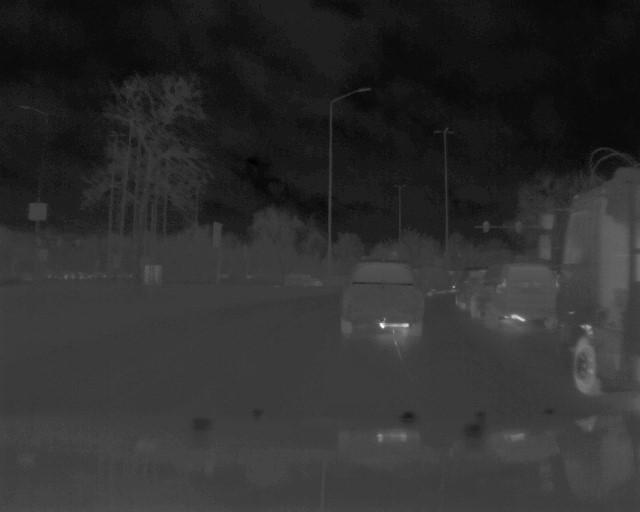car: (558, 164, 640, 399), (339, 255, 426, 340), (469, 260, 559, 333)
